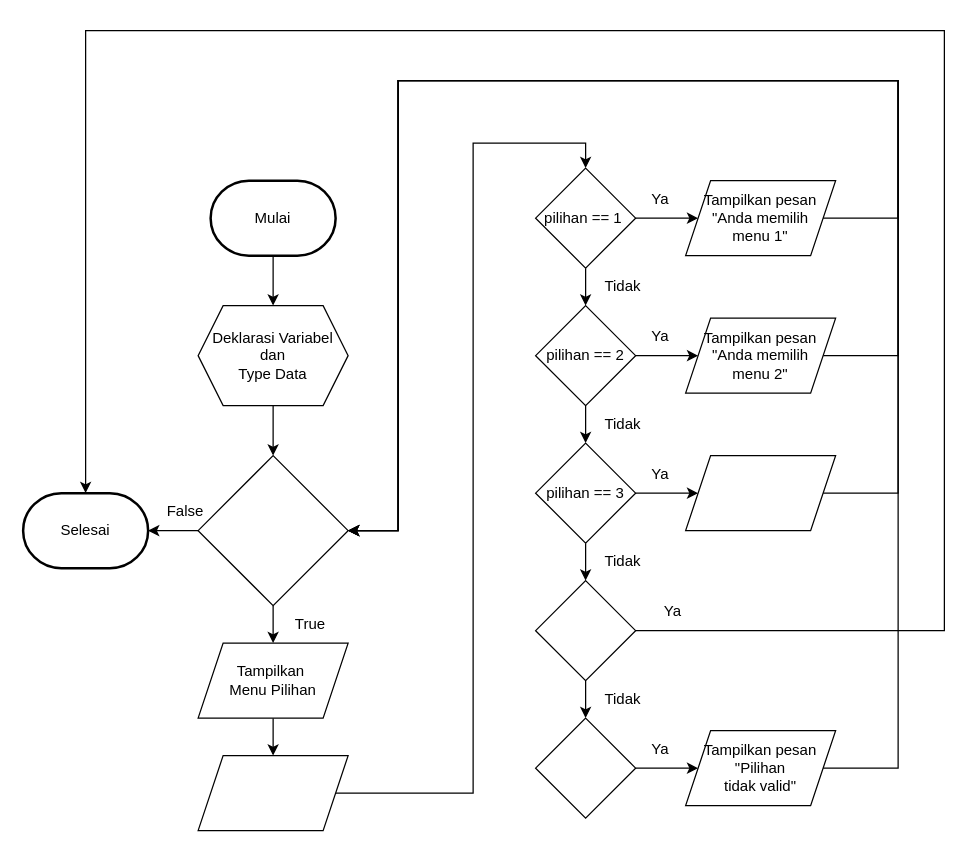
The diagram is 976 pixels wide and 853 high, and some of its shapes have lost their labels. Each missing label, with the box of its shape:
Default: (534, 717, 636, 818)
Input Pilihan: (197, 754, 348, 831)
pilihan != 4: (197, 454, 348, 606)
pilihan == 4: (534, 579, 636, 681)
Tampilkan pesan "Anda memilih menu 3": (684, 454, 836, 531)
